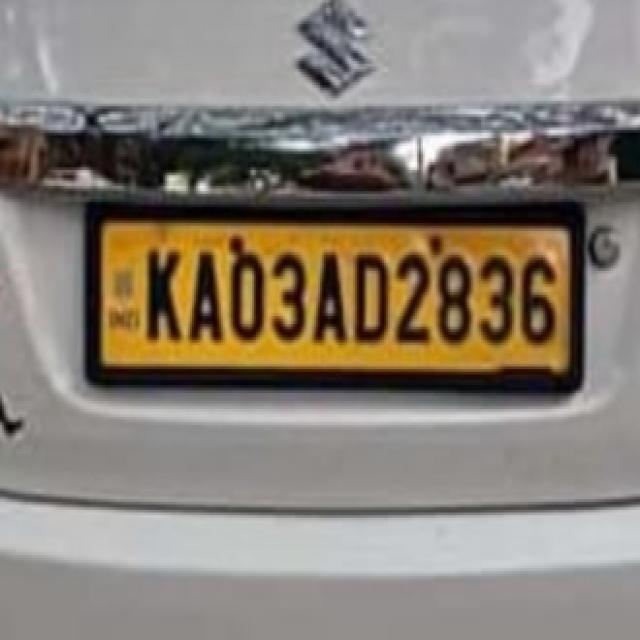0: (224, 245, 268, 342)
3: (266, 244, 310, 350), (478, 246, 517, 354)
6: (518, 242, 561, 355)
8: (432, 243, 476, 346)
A: (183, 241, 226, 350), (312, 248, 349, 352)
D: (345, 244, 393, 352)
K: (136, 238, 185, 348)
